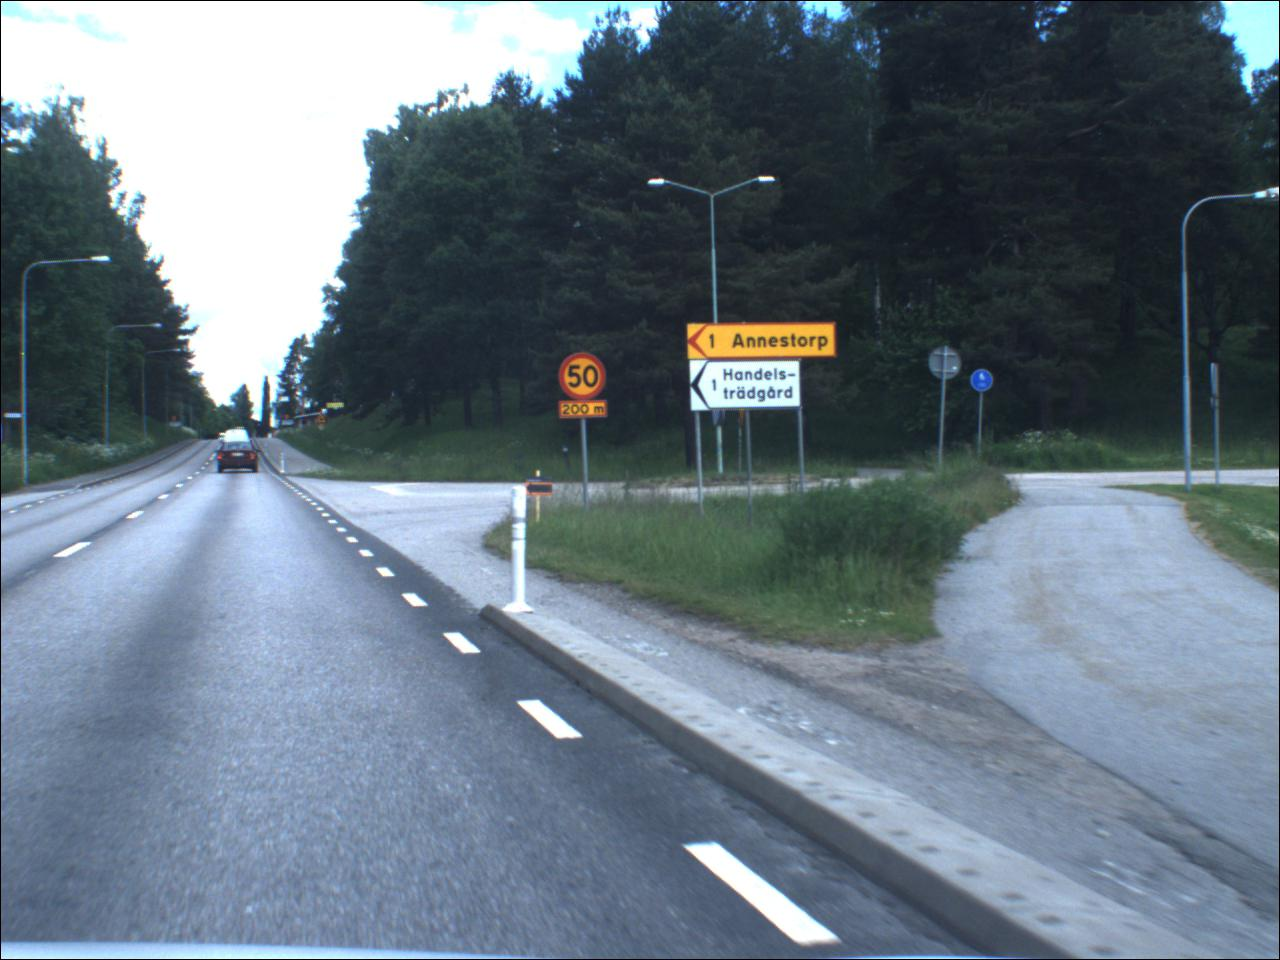50_SIGN: (556, 351, 613, 404)
PRIORITY_ROAD: (320, 425, 327, 434)
WARNING_CHILDREN: (316, 414, 330, 426)
